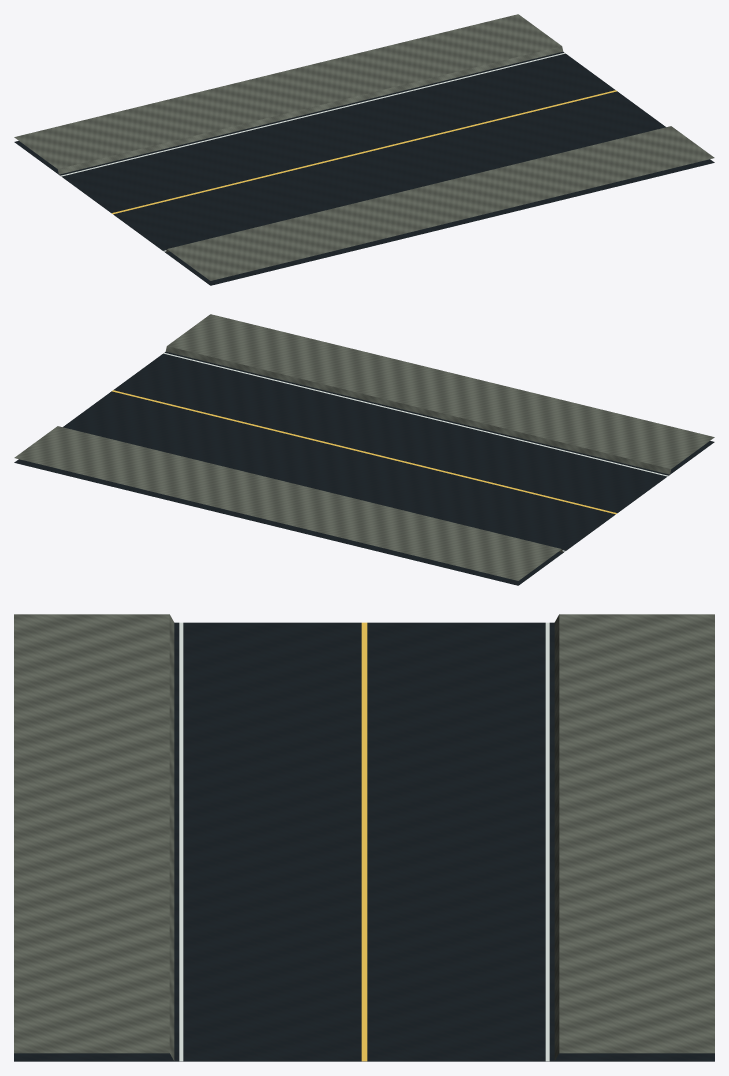
File: road_local_2lane_16m_LOD2.glb
The picture shows the model from 3 angles, top to bottom: view 1: azimuth 30°, elevation 25°; view 2: azimuth 150°, elevation 25°; view 3: azimuth 270°, elevation 25°; orthographic projection. The views are drawn at different scales.
Visible parts, largest first — view 1: road_local_2lane_16m__surface.002, road_local_2lane_16m__markings.002; view 2: road_local_2lane_16m__surface.002, road_local_2lane_16m__markings.002; view 3: road_local_2lane_16m__surface.002, road_local_2lane_16m__markings.002.
Part boxes in pixels (<box>): road_local_2lane_16m__surface.002: <box>14,14,714,285</box>; road_local_2lane_16m__markings.002: <box>60,52,616,251</box>; road_local_2lane_16m__surface.002: <box>14,314,714,585</box>; road_local_2lane_16m__markings.002: <box>112,352,668,551</box>; road_local_2lane_16m__surface.002: <box>14,614,714,1061</box>; road_local_2lane_16m__markings.002: <box>179,622,549,1061</box>.
Size of the model in its own units: 16 by 0.145 by 10.8.
5 materials, 3 textured.
